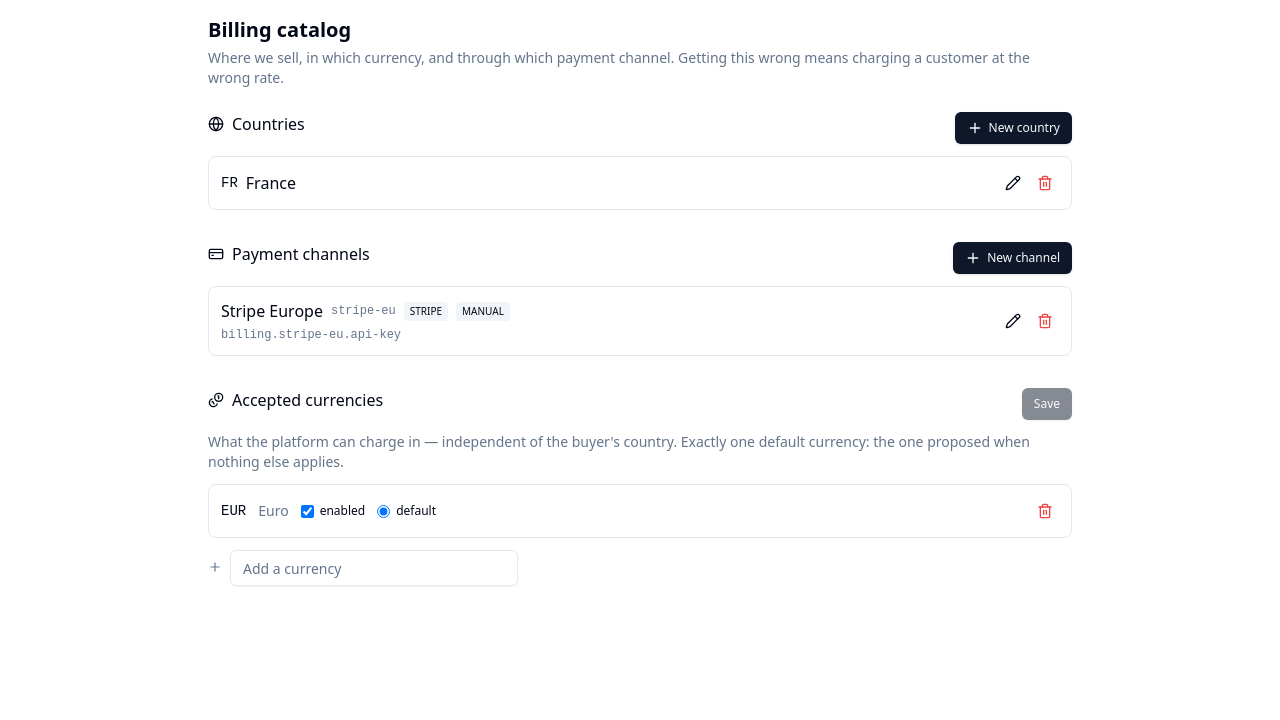
Test: AdminBillingCatalog › affiche un taux en vigueur et n'offre que de le clore, jamais de l'editer
Click the button named "Edit country".
click(1013, 183)  # box [999,169,1027,197]
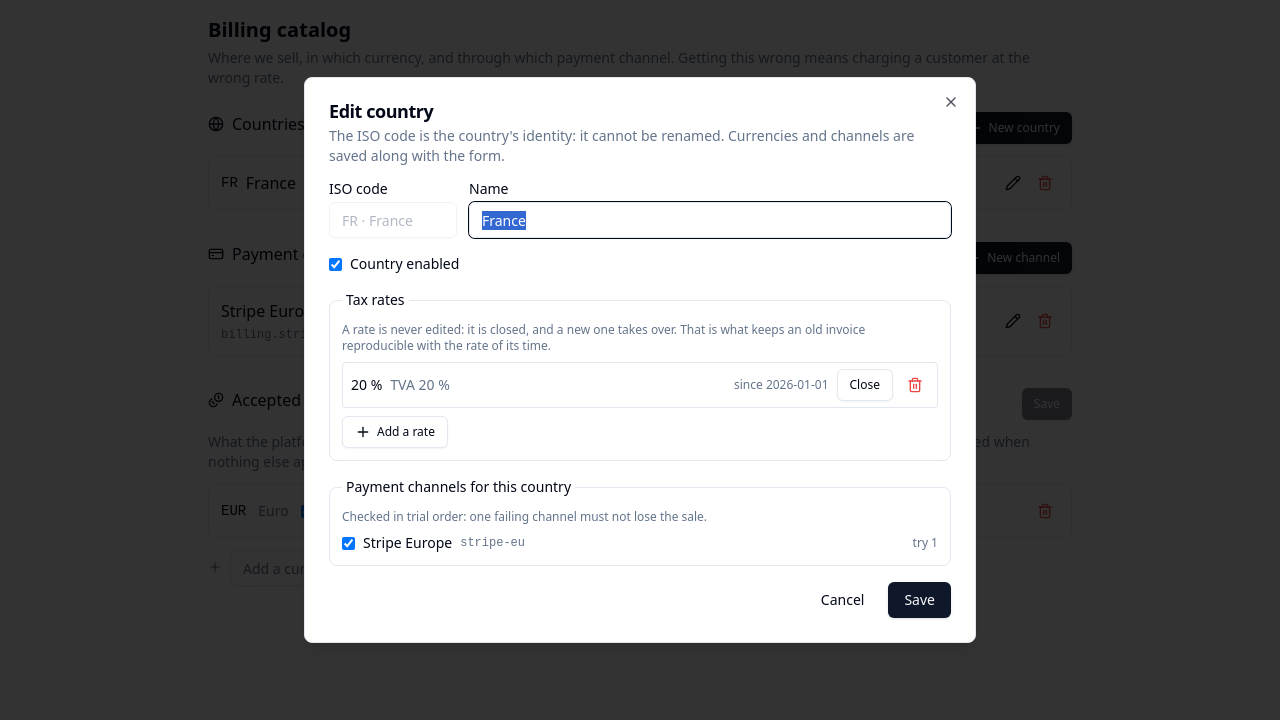
Result: the element with test id "taux-7" shows "20 %" at [390,375,450,394]
Result: the element with test id "taux-7" shows "TVA 20 %" at [390,375,450,394]
Result: the button "Close" is shown at [836,369,893,401]
